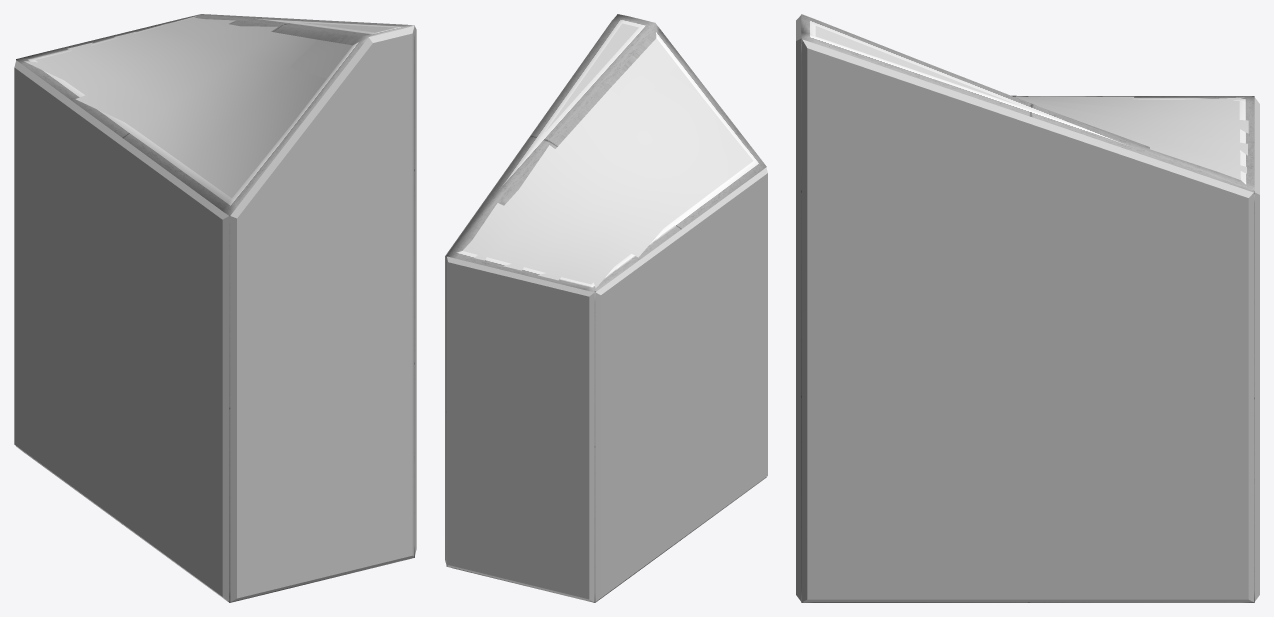
Rendered from s_gm_crawl_04.dae.
The picture shows the model from 3 angles, left to right: view 1: azimuth 30°, elevation 25°; view 2: azimuth 150°, elevation 25°; view 3: azimuth 270°, elevation 25°; orthographic projection. The views are drawn at different scales.
Visible parts, largest first — view 1: Colmesh_crawl_04-1, crawl_04_a25, crawl_04_a200; view 2: Colmesh_crawl_04-1, crawl_04_a25, crawl_04_a200; view 3: Colmesh_crawl_04-1, crawl_04_a25, crawl_04_a200.
Boxes of the visible parts, left/top/right/bottom form: Colmesh_crawl_04-1: left=14, top=23, right=416, bottom=601; crawl_04_a25: left=24, top=17, right=394, bottom=198; crawl_04_a200: left=16, top=14, right=414, bottom=602; Colmesh_crawl_04-1: left=445, top=17, right=767, bottom=602; crawl_04_a25: left=463, top=23, right=753, bottom=287; crawl_04_a200: left=446, top=14, right=766, bottom=602; Colmesh_crawl_04-1: left=796, top=15, right=1259, bottom=602; crawl_04_a25: left=815, top=26, right=1248, bottom=179; crawl_04_a200: left=801, top=14, right=1254, bottom=602.
Size of the model in its own units: 2.1 by 4.1 by 5.51.
